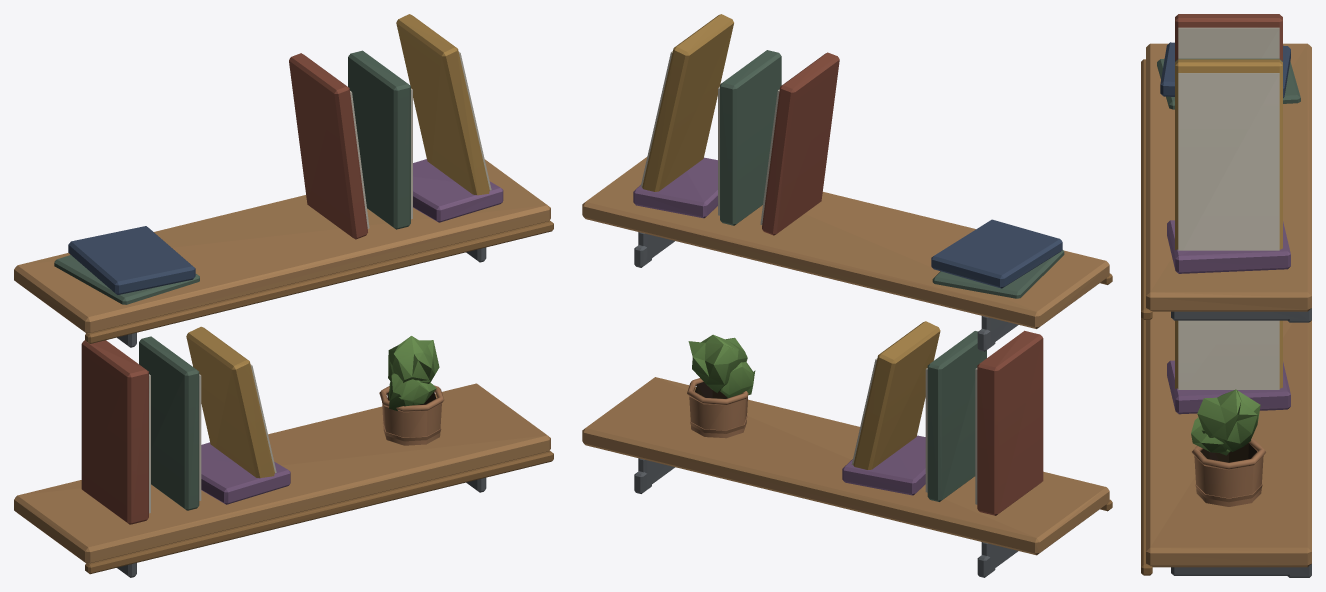
File: office-wall-shelves.glb
3 views of the same model, side by side, from view 1: azimuth 30°, elevation 25°; view 2: azimuth 150°, elevation 25°; view 3: azimuth 270°, elevation 25° (orthographic). The views are drawn at different scales.
Visible parts, largest first — view 1: office_wall_shelves; view 2: office_wall_shelves; view 3: office_wall_shelves.
Part boxes in pixels (<box>): office_wall_shelves: <box>14,14,553,577</box>; office_wall_shelves: <box>582,14,1112,577</box>; office_wall_shelves: <box>1141,14,1311,577</box>.
Bounding box in the file's own units: 0.72 × 0.6662 × 0.206.
